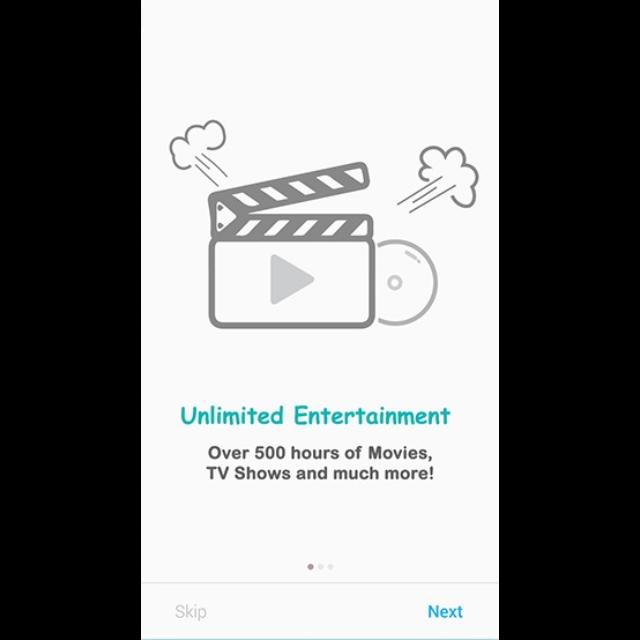image: (170, 120, 480, 330)
pageindicator: (308, 562, 334, 572)
text: (208, 446, 434, 480), (182, 406, 452, 426), (428, 604, 464, 620), (176, 604, 208, 622)
